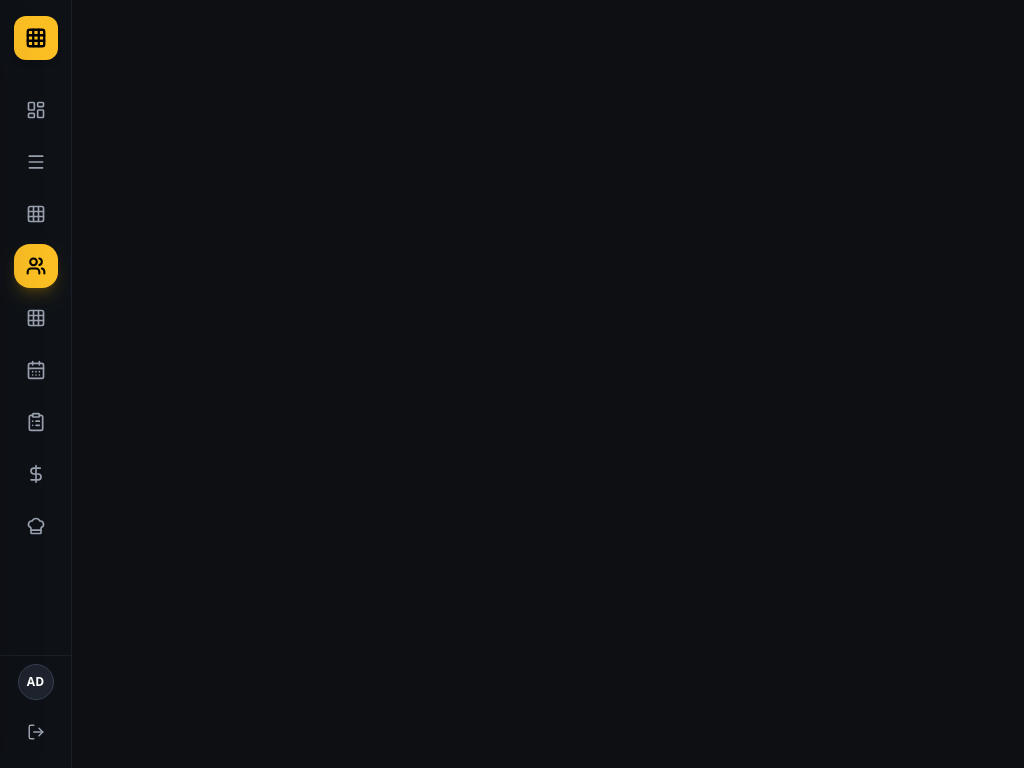
Test: Layout Navigation & Responsive Drawer Accessibility › debe cerrar el menú lateral al presionar la tecla Escape
The image size is (1024, 768).
Click the button named "abrir menú lateral completo" at (36, 38), box [14,16,58,60]
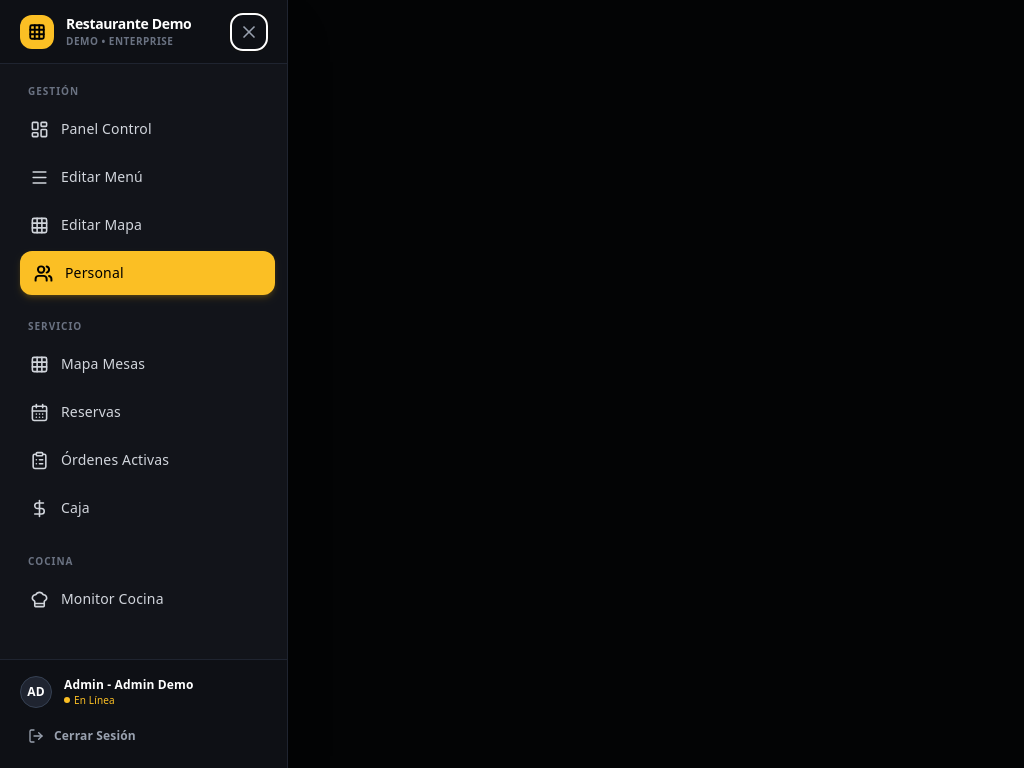
expect the dialog named "menú de navegación completo" has class "translate-x-0": met, box [0,0,288,767]
Press Escape
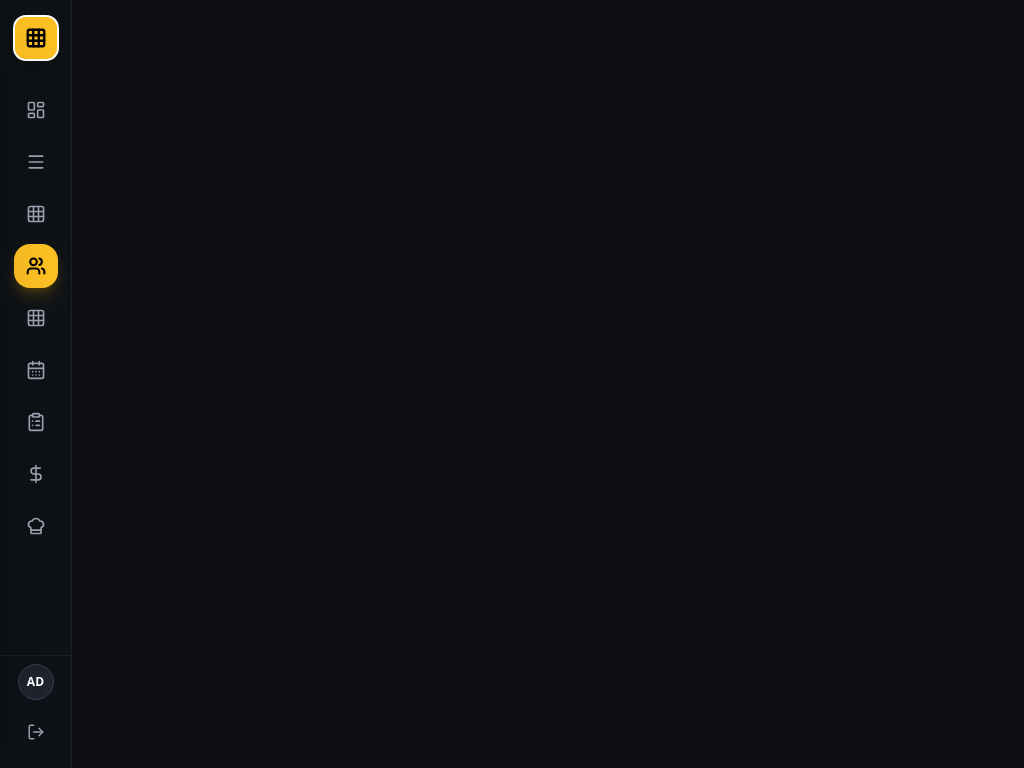
expect the button named "abrir menú lateral completo" is collapsed: met, box [14,16,58,60]
